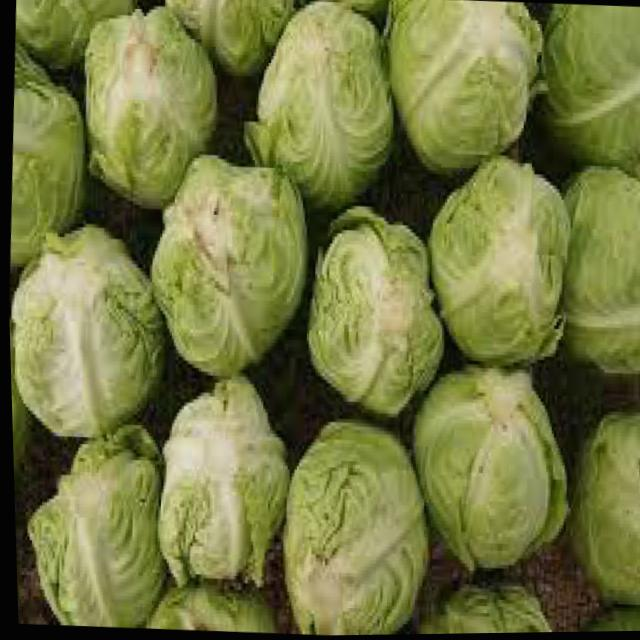Cabbage: (144, 152, 313, 383), (404, 359, 576, 579), (272, 414, 433, 637), (5, 220, 166, 439), (238, 0, 401, 209), (14, 416, 171, 631), (298, 200, 450, 422), (421, 151, 574, 371), (151, 373, 291, 592), (76, 2, 224, 208), (380, 0, 552, 176), (5, 46, 93, 260), (554, 167, 640, 374), (535, 7, 640, 167), (562, 410, 640, 608), (411, 578, 557, 635)
